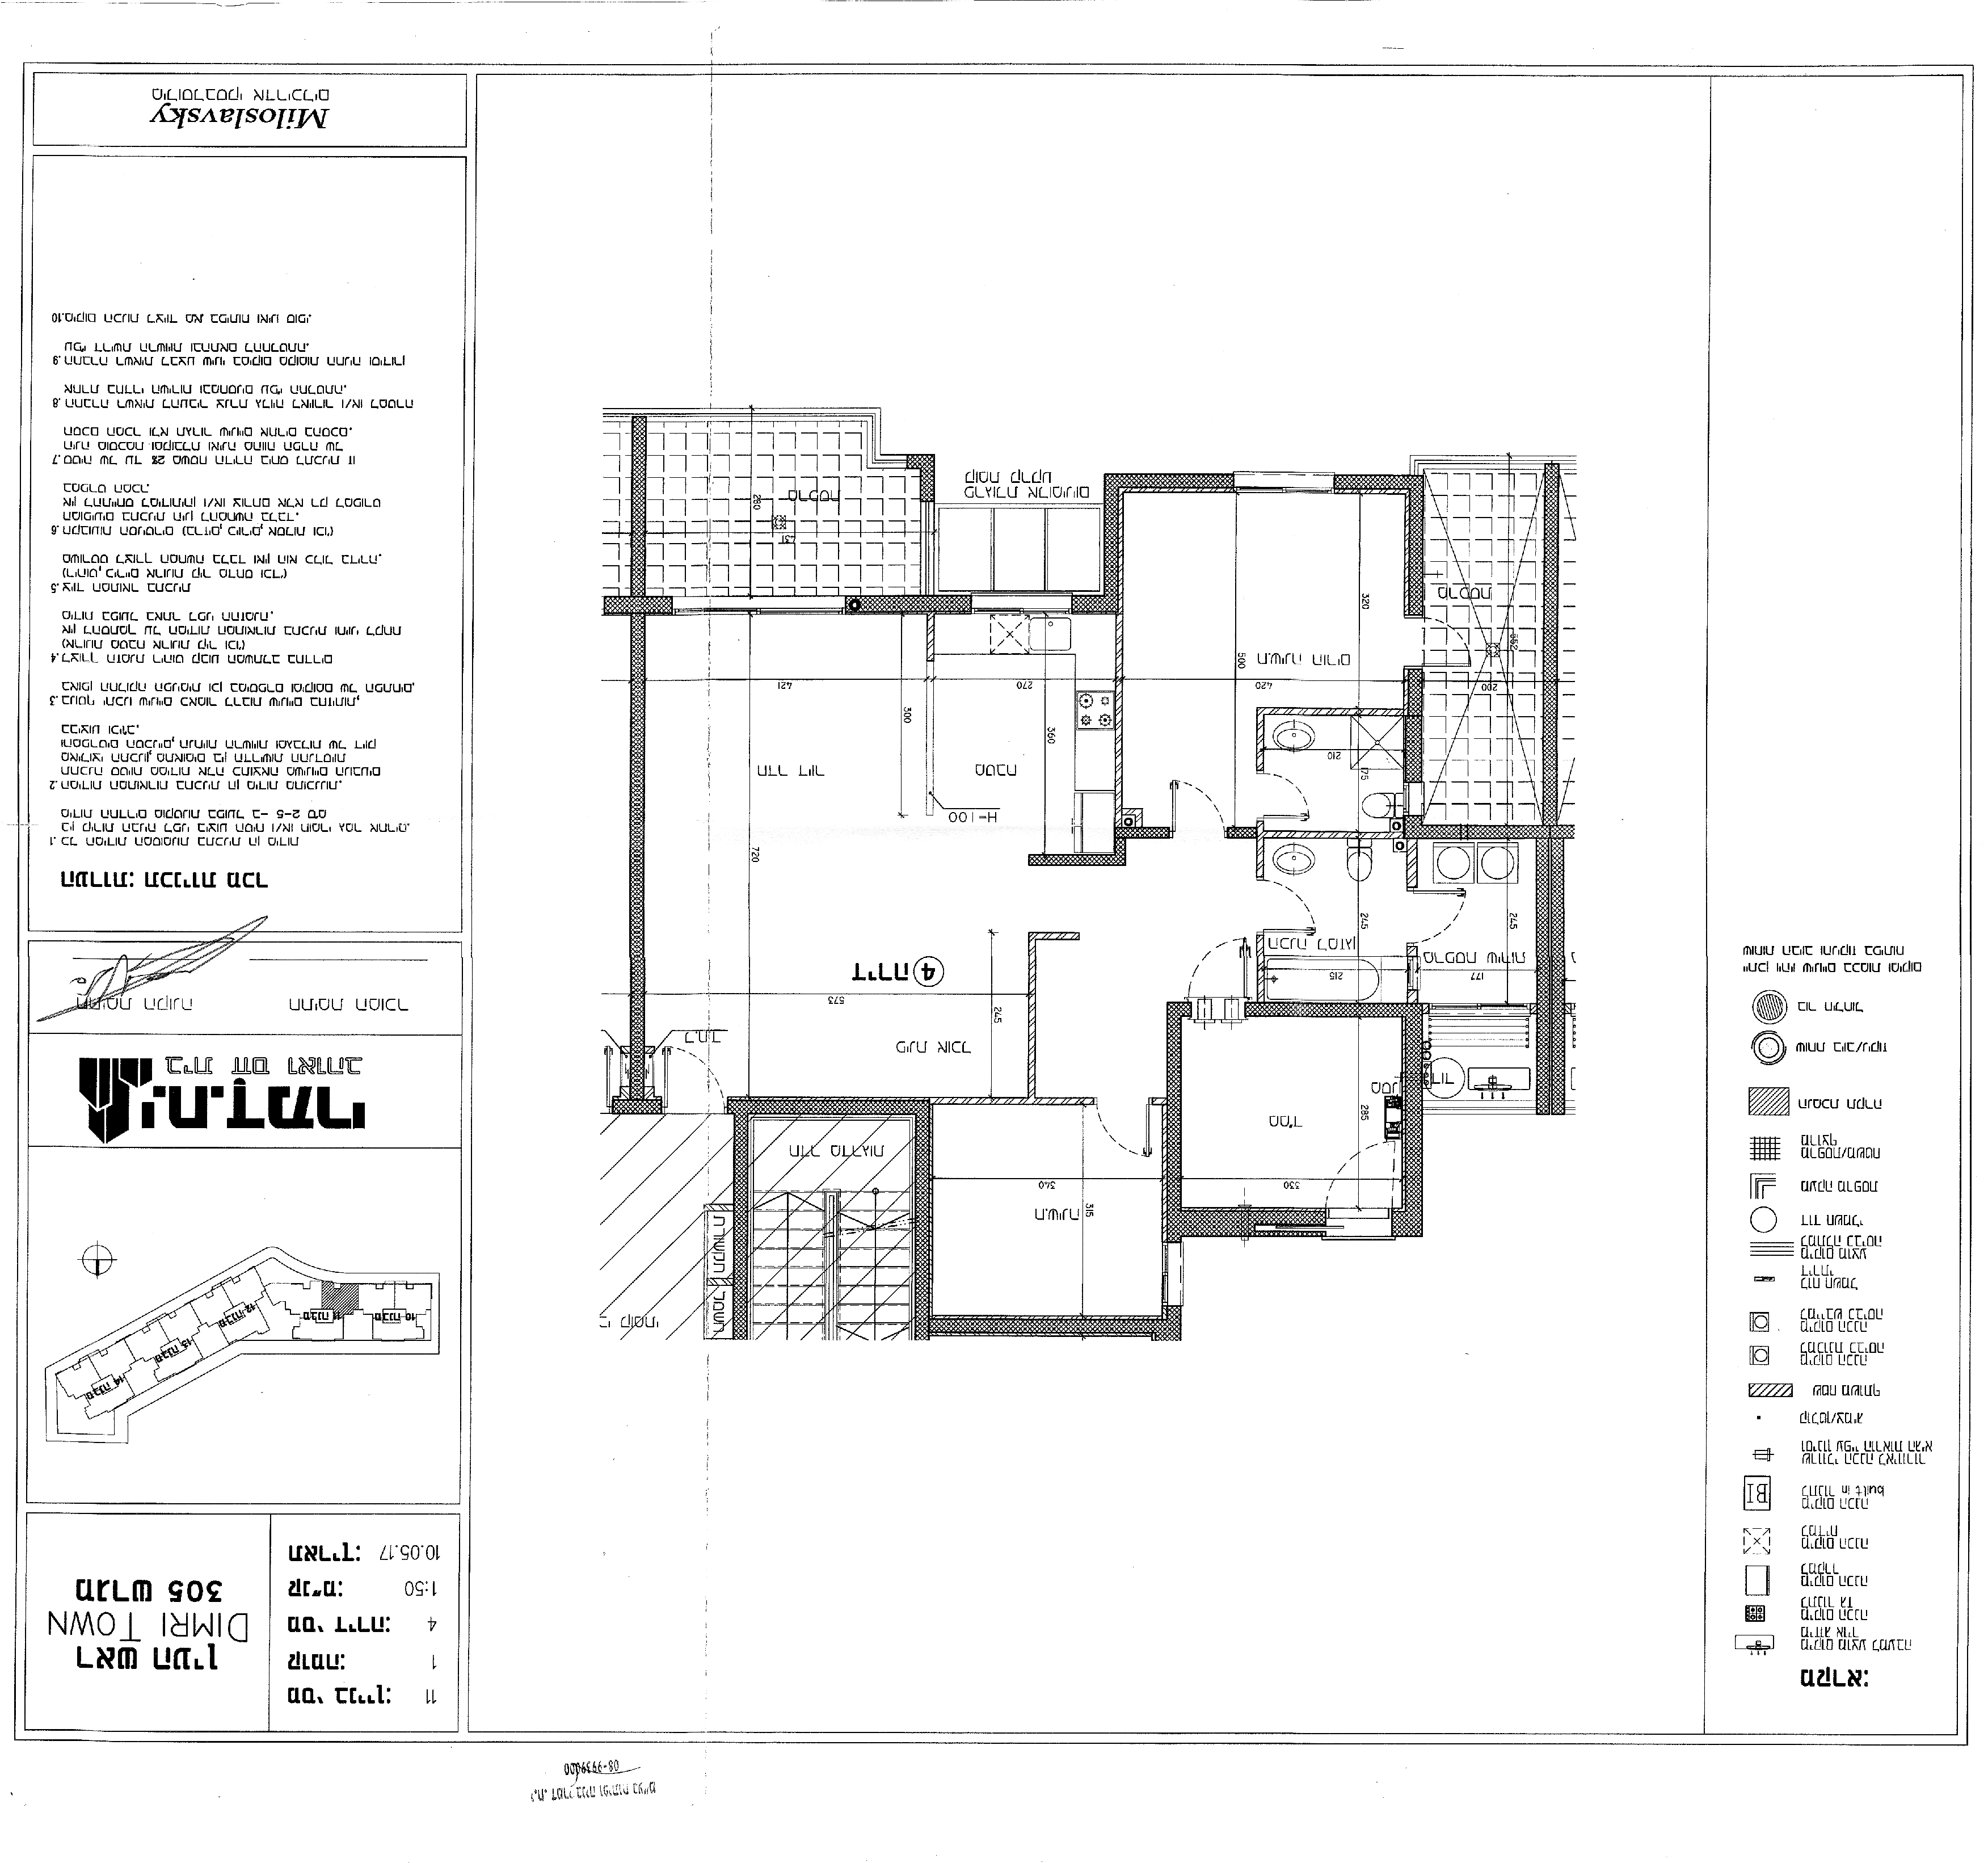door: (656, 1037, 728, 1105), (1181, 930, 1253, 996), (1267, 874, 1337, 940), (1090, 1110, 1160, 1168), (1263, 769, 1333, 826), (1165, 774, 1234, 832), (1419, 884, 1475, 953)
wall: (630, 615, 644, 1100), (1545, 464, 1557, 828), (735, 1100, 751, 1341), (1407, 1003, 1423, 1238), (1536, 839, 1549, 1115), (1550, 839, 1563, 1115), (915, 1101, 929, 1341), (632, 417, 646, 601), (756, 1101, 913, 1115), (931, 1320, 1181, 1329), (1248, 1005, 1405, 1017), (1410, 475, 1423, 615), (1106, 475, 1118, 615), (1122, 473, 1232, 487), (1409, 669, 1421, 781)
window: (672, 597, 847, 609), (969, 594, 1071, 615), (1234, 473, 1335, 494), (1162, 1241, 1181, 1306)
